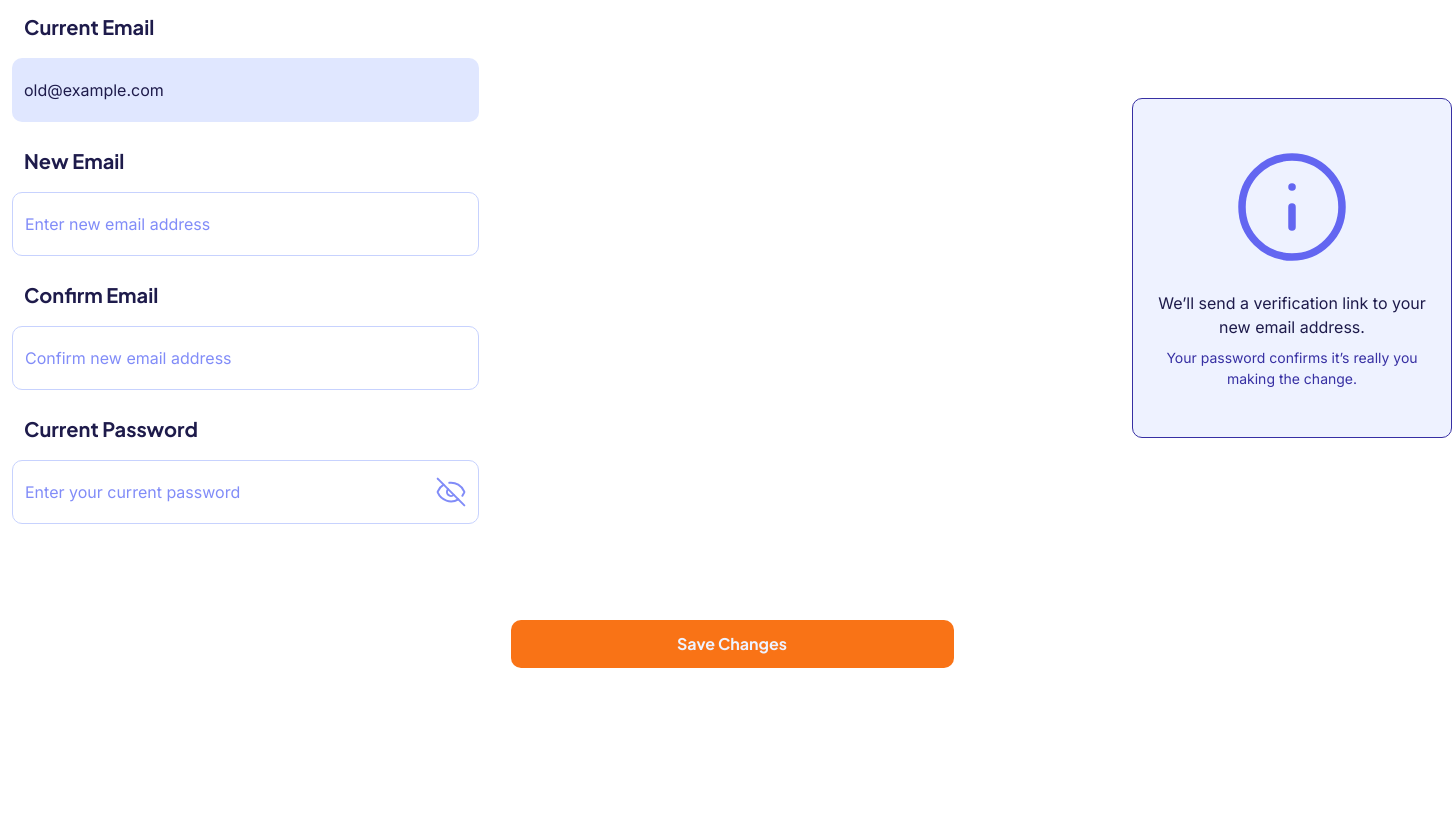
Test: UpdateEmailForm — submitting › surfaces an address another account already holds
The width and height of the screenshot is (1452, 822).
Type "taken@example.com" into the field labelled "New Email" at {"x": 246, "y": 224}, box [12,192,479,256]
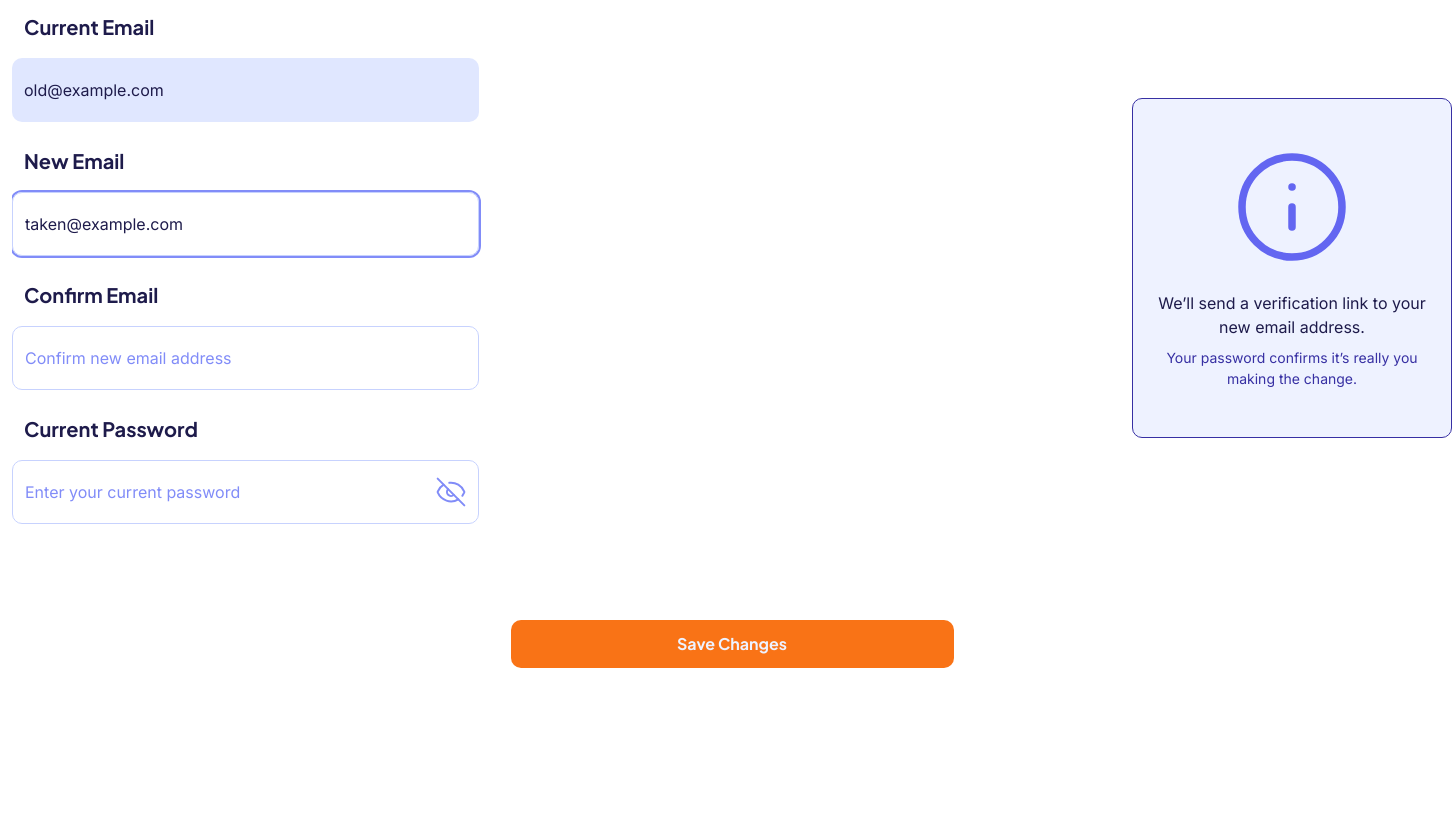
Type "taken@example.com" into the field labelled "Confirm Email" at {"x": 246, "y": 358}, box [12,326,479,390]
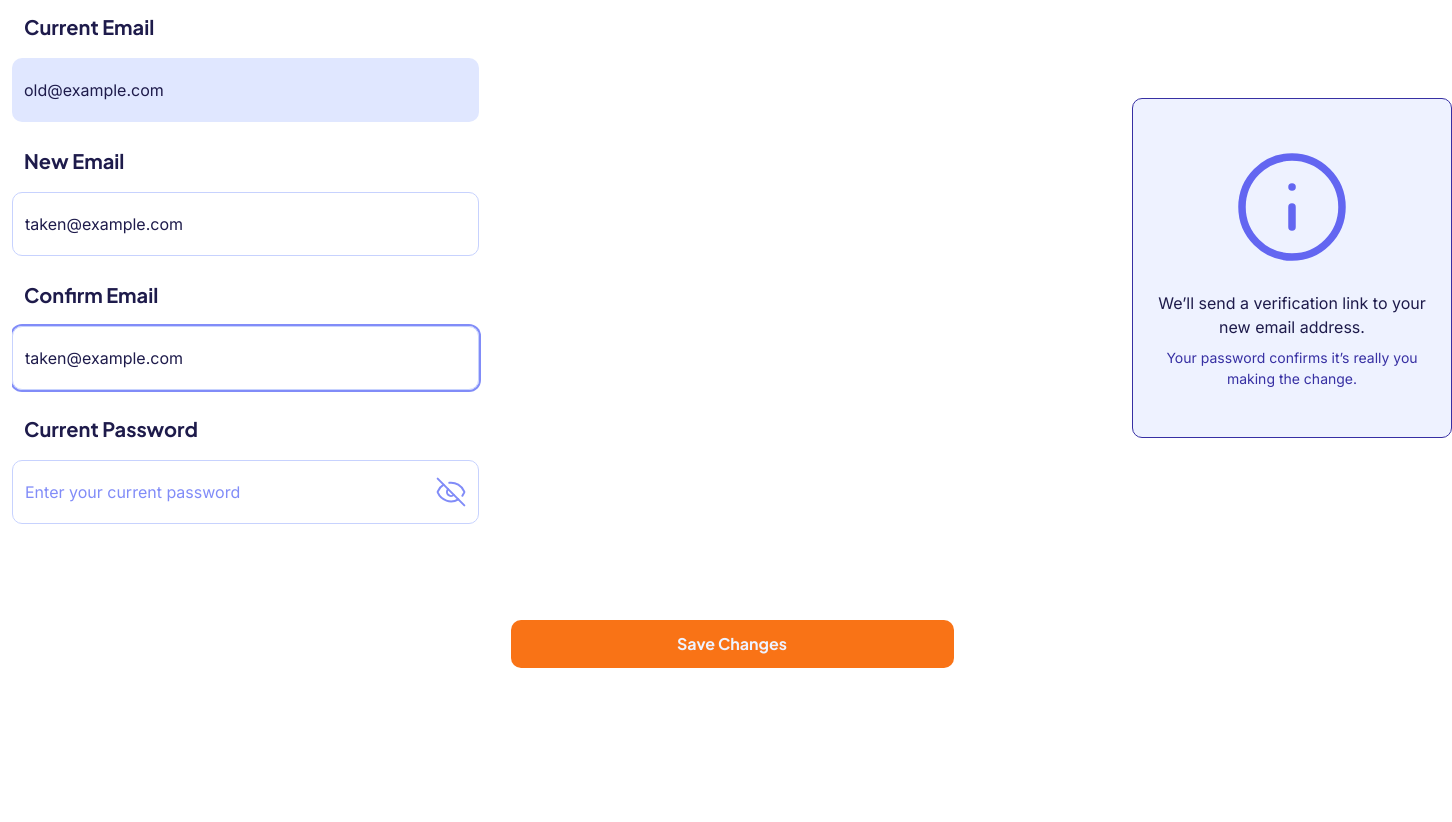
Type "OldPassw0rd" into the password field labelled "Current Password" at {"x": 246, "y": 492}, box [12,460,479,524]
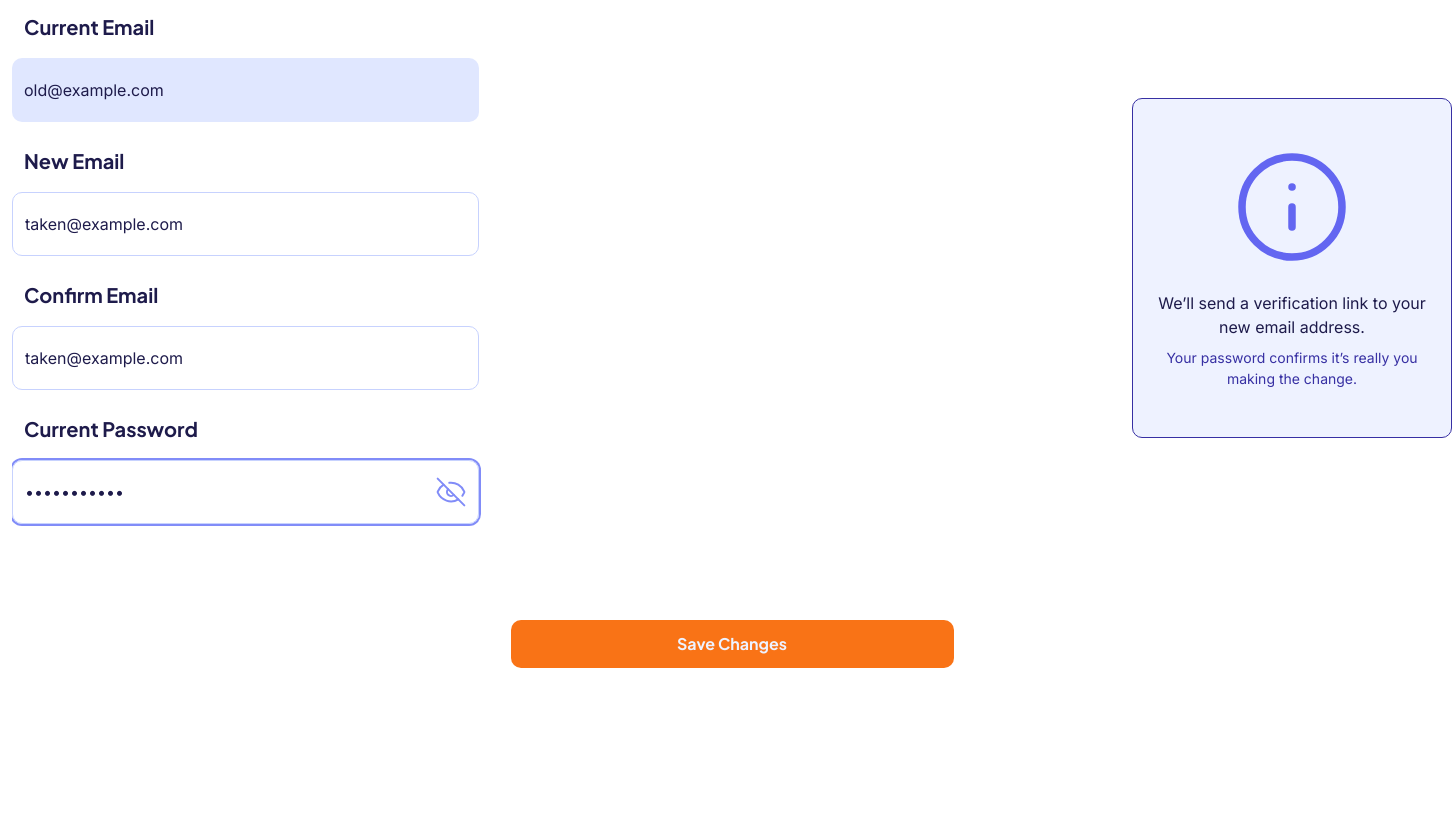
Click the button "Save Changes" at {"x": 732, "y": 644}, box [510,620,954,668]
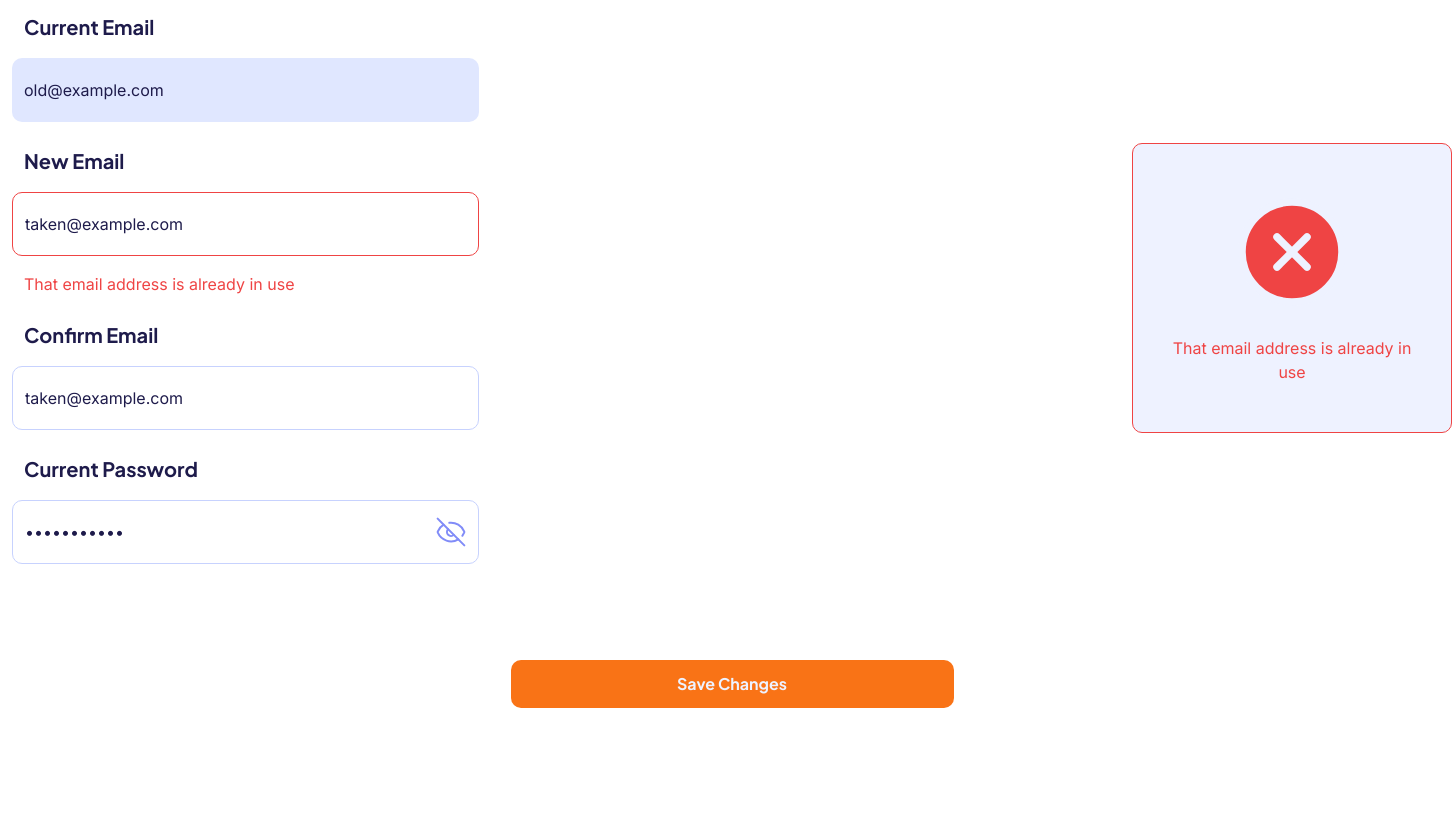
expect the text "That email address is already in use" below "New Email" is shown: met, box [24,274,294,294]
